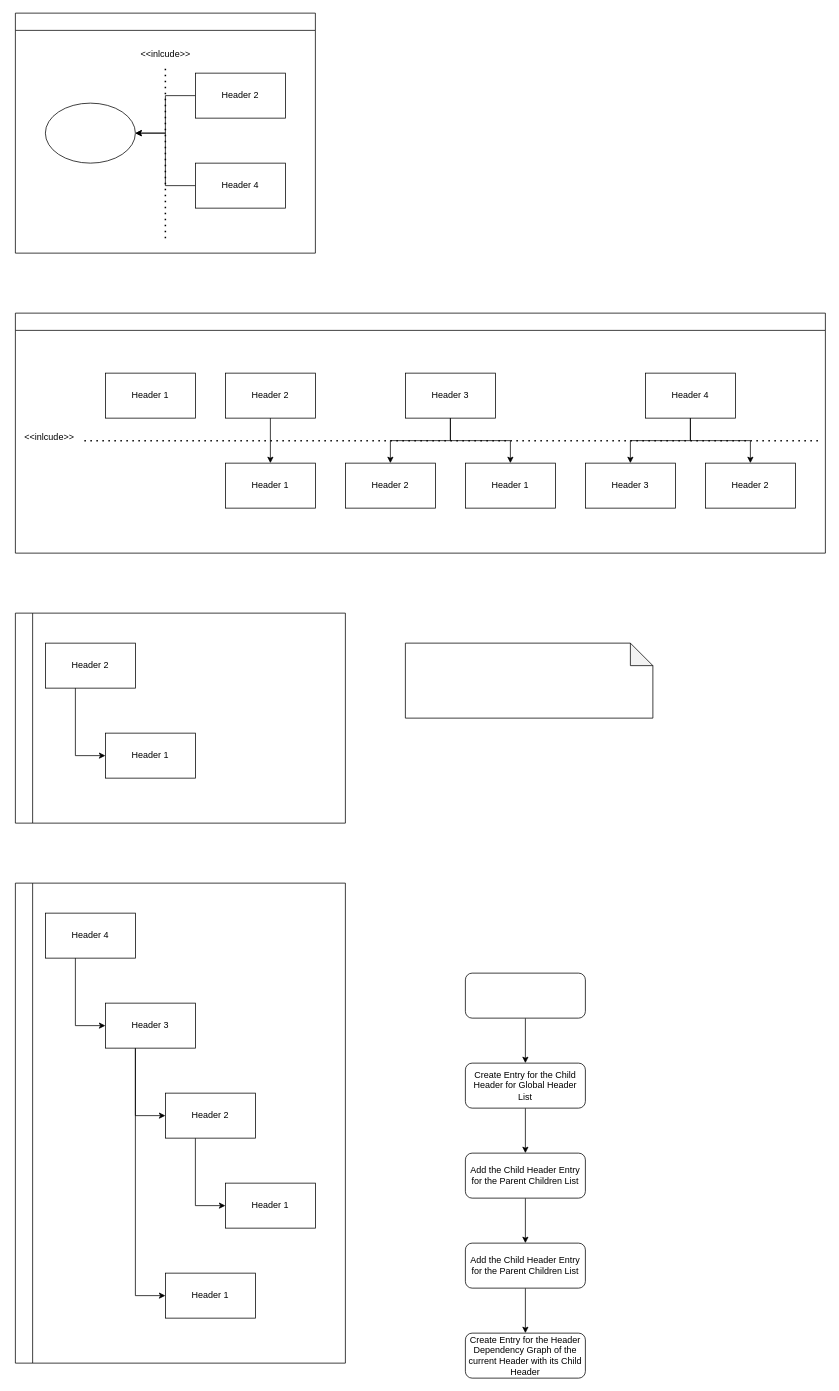
This 839x1391 diagram has some shape labels left out. Each missing label, with the box of its shape:
Header 2: Includes Recursive: (15, 612, 345, 823)
Header 4: Includes Recursive: (15, 882, 345, 1363)
Header Files with Header Includes: (15, 312, 825, 553)
Read and marked as read.: (405, 642, 653, 718)
Read Header File Content if Global Header File Entry does not exist: (465, 972, 585, 1018)
Source File: (45, 102, 135, 163)
Source Files with Header Includes: (15, 12, 315, 253)
